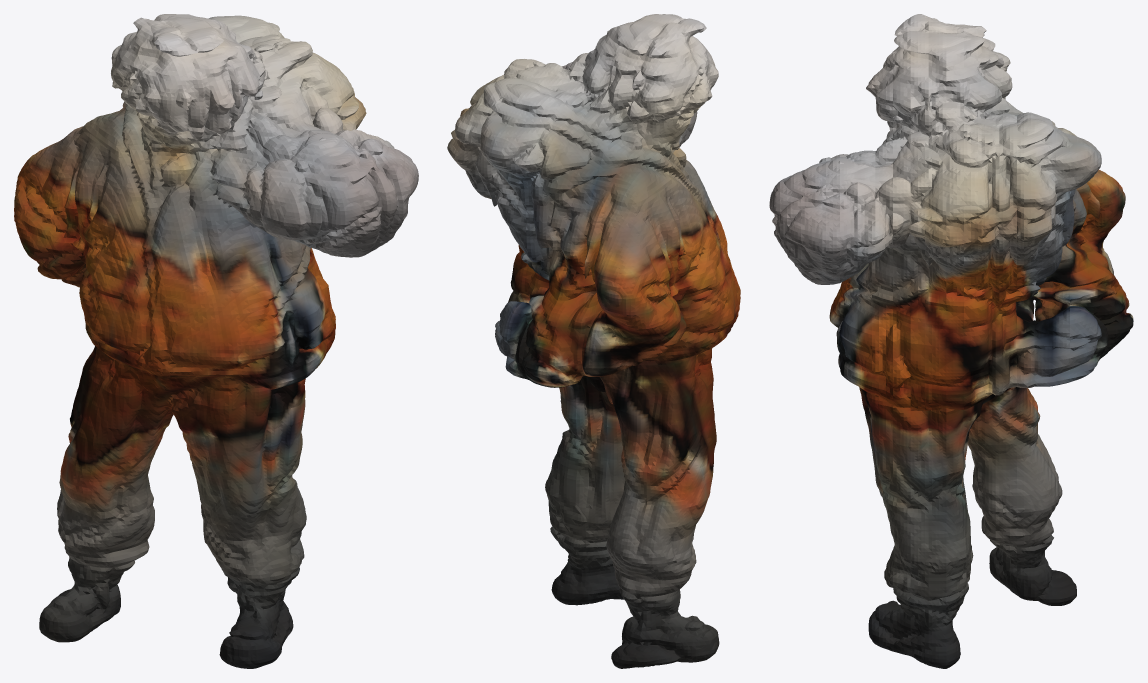
The model's file is koma-standing.glb.
3 renders of one model, left to right at view 1: azimuth 30°, elevation 25°; view 2: azimuth 150°, elevation 25°; view 3: azimuth 270°, elevation 25°, orthographic. The views are drawn at different scales.
Parts seen in each view (by area): view 1: mesh; view 2: mesh; view 3: mesh.
Part boxes in pixels (x1=…): mesh: x1=14, y1=14, x2=418, y2=668; mesh: x1=447, y1=14, x2=740, y2=668; mesh: x1=769, y1=14, x2=1133, y2=668.
Bounding box in the file's own units: 15.36 × 32 × 17.73.
